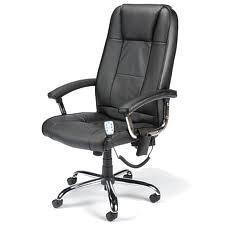chair: (42, 3, 179, 222)
